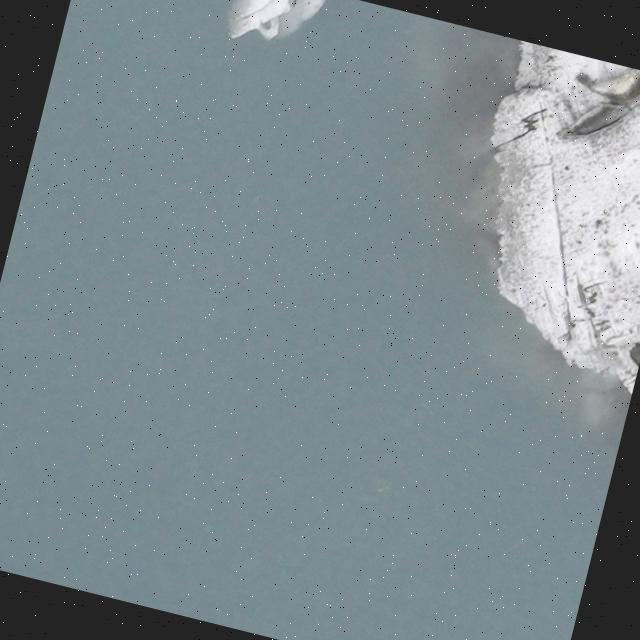seal: (549, 82, 640, 161), (564, 55, 640, 111)
